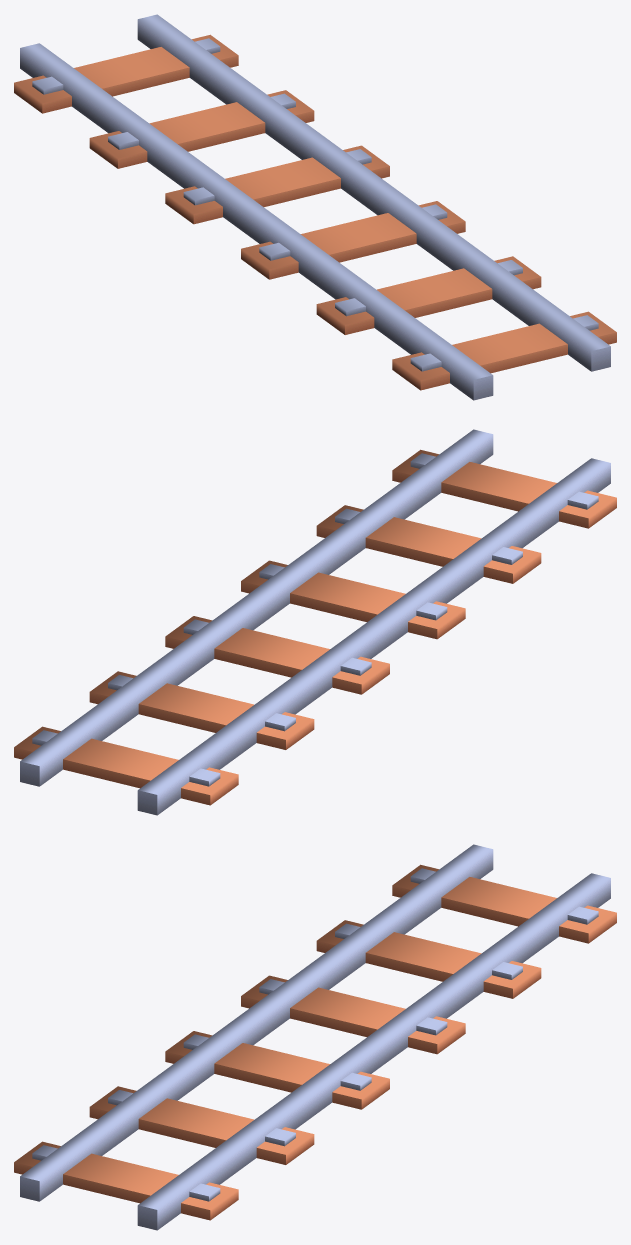
The model's file is kenney-train-railroad-straight.glb.
3 views of the same model, one above another, from view 1: azimuth 30°, elevation 25°; view 2: azimuth 150°, elevation 25°; view 3: azimuth 330°, elevation 25° (orthographic).
Parts seen in each view (by area): view 1: railroad-straight; view 2: railroad-straight; view 3: railroad-straight.
Part boxes in pixels (<box>): railroad-straight: <box>14,14,616,400</box>; railroad-straight: <box>14,429,616,815</box>; railroad-straight: <box>14,844,616,1230</box>.
Bounding box in the file's own units: 1 × 0.1001 × 4.
Materials: 1 (1 with a texture image).
